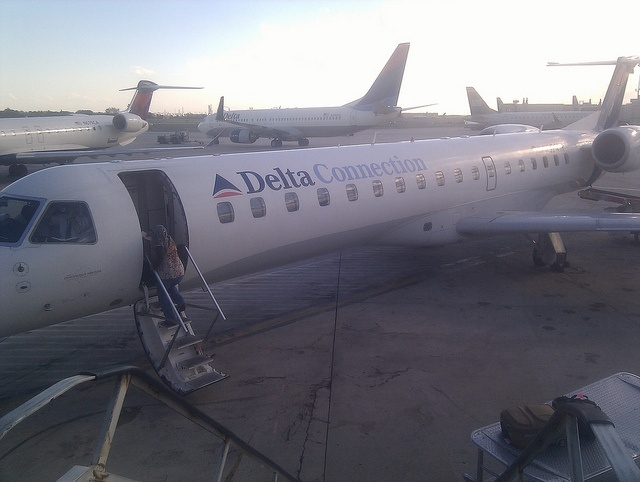Airplane: (176, 31, 453, 139), (2, 70, 204, 159)
